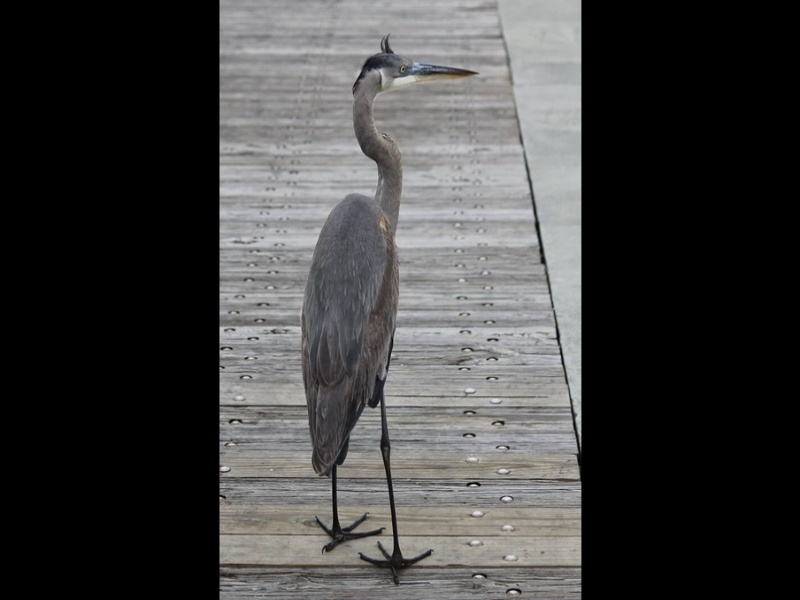heron: (294, 33, 479, 592)
